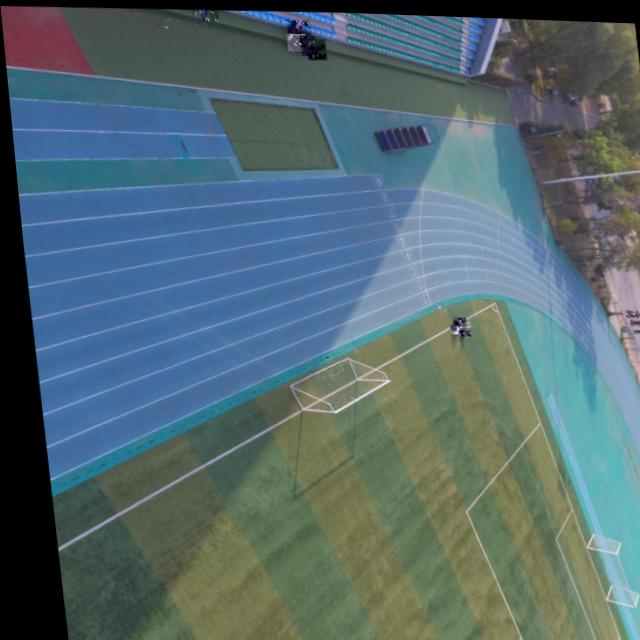Person: (285, 17, 310, 35), (304, 36, 325, 57), (285, 31, 305, 49), (298, 33, 314, 53), (201, 8, 217, 19), (442, 320, 456, 331), (446, 313, 459, 323), (618, 305, 632, 313), (193, 8, 208, 15), (451, 317, 464, 324), (623, 314, 638, 320), (622, 315, 636, 321), (451, 326, 463, 333), (623, 308, 638, 312), (626, 325, 640, 328), (632, 319, 640, 324)
